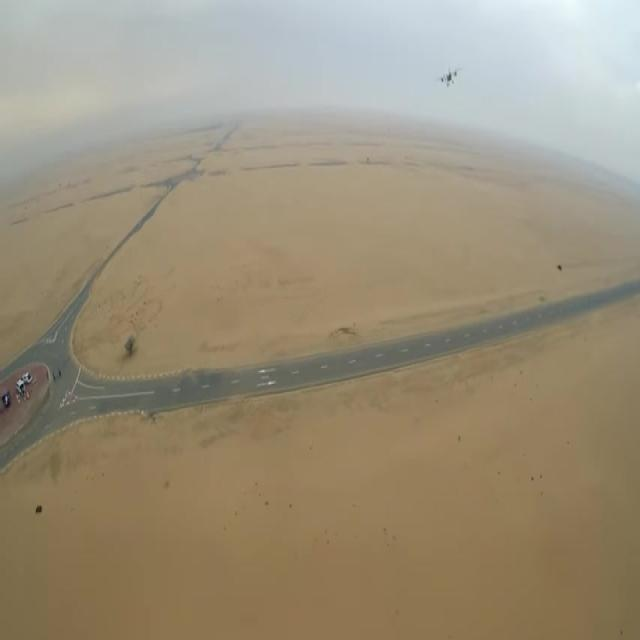iha: (434, 0, 462, 20)
